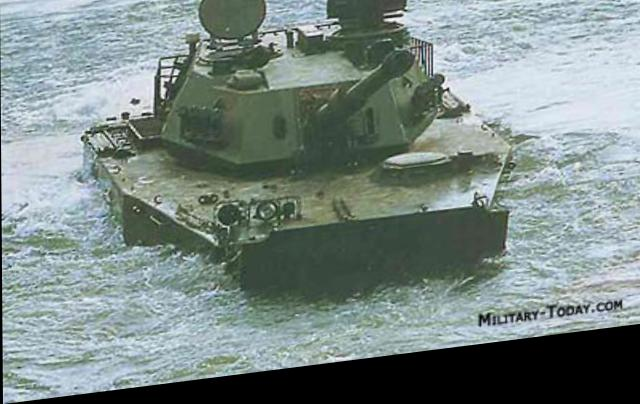tank: (100, 11, 508, 296)
